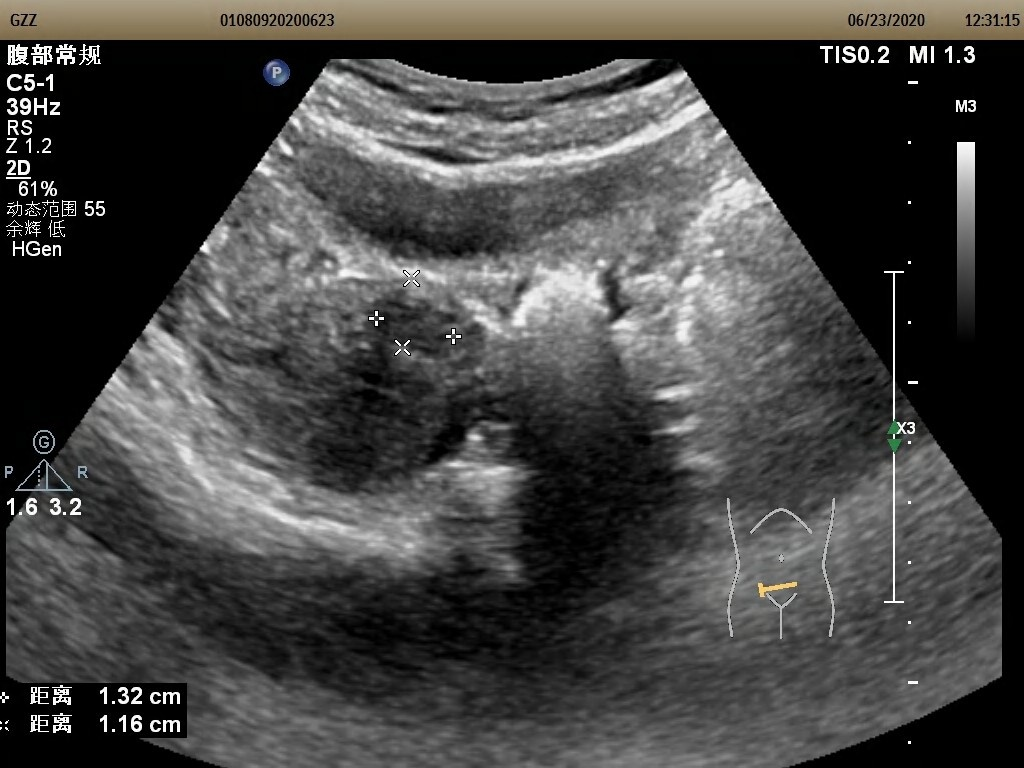肌瘤: (377, 278, 453, 348)
